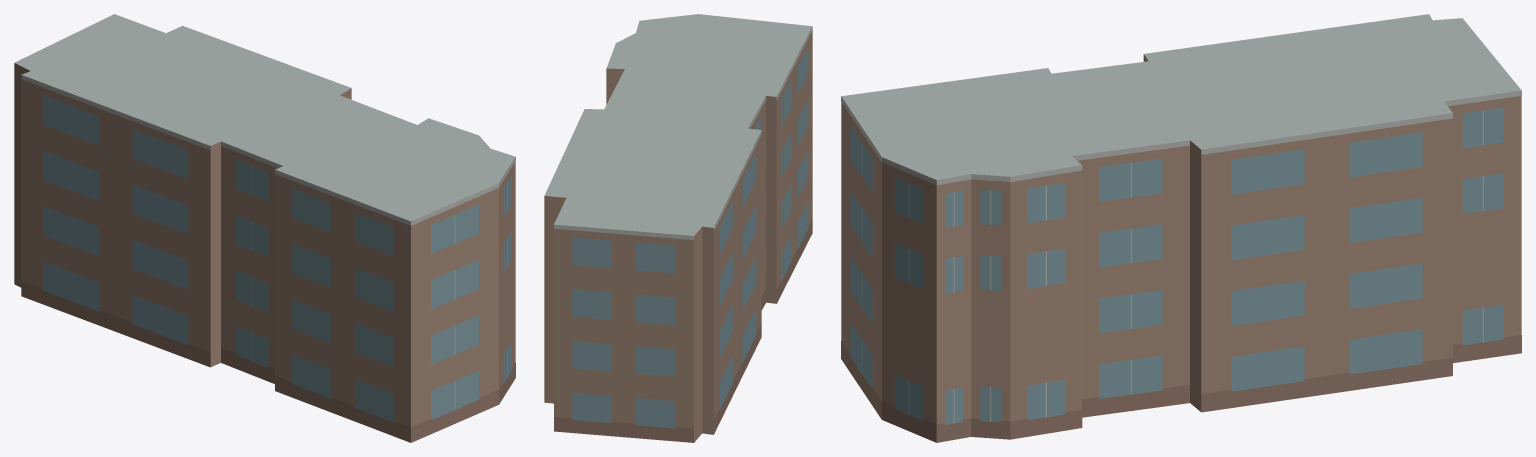
File: survey-upis-32553365.glb
The picture shows the model from 3 angles, left to right: view 1: azimuth 30°, elevation 25°; view 2: azimuth 150°, elevation 25°; view 3: azimuth 270°, elevation 25°; orthographic projection. The views are drawn at different scales.
Parts seen in each view (by area): view 1: survey-upis-32553365.tmp; view 2: survey-upis-32553365.tmp; view 3: survey-upis-32553365.tmp.
Boxes of the visible parts, left/top/right/bottom form: survey-upis-32553365.tmp: left=14, top=14, right=515, bottom=442; survey-upis-32553365.tmp: left=544, top=14, right=812, bottom=442; survey-upis-32553365.tmp: left=841, top=14, right=1521, bottom=442.
Size of the model in its own units: 16.56 by 12.2 by 28.65.
